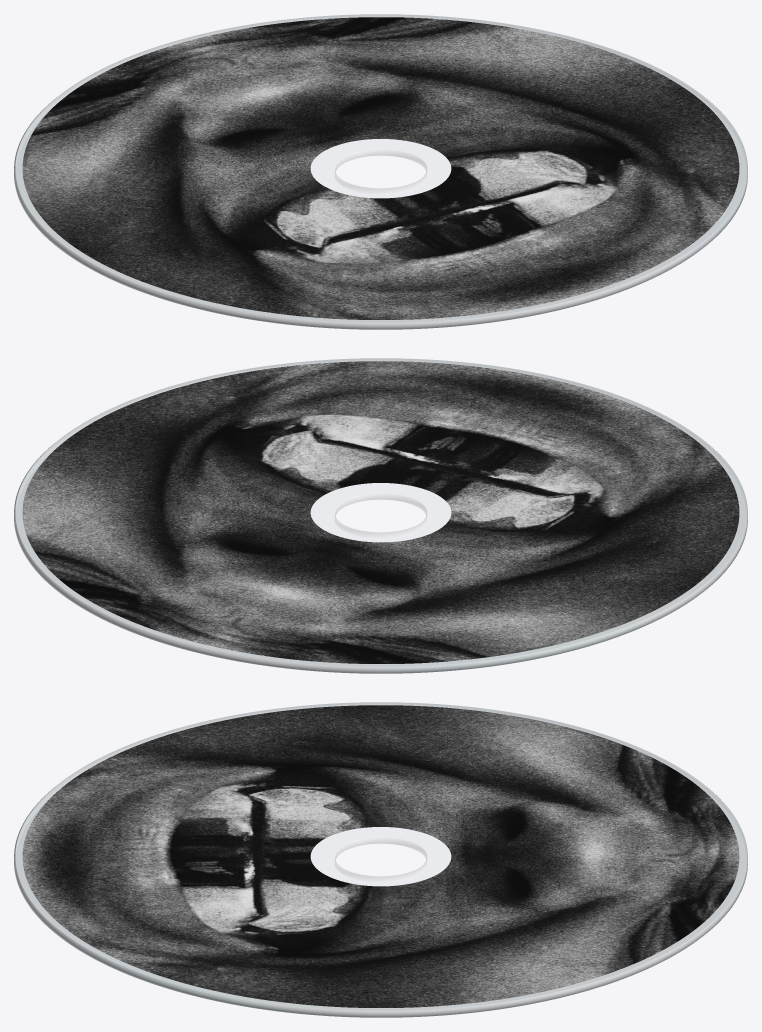
Rendered from 17_bully.glb.
3 views of the same model, one above another, from view 1: azimuth 30°, elevation 25°; view 2: azimuth 150°, elevation 25°; view 3: azimuth 270°, elevation 25° (orthographic).
Visible parts, largest first — view 1: Bully · complete CD; view 2: Bully · complete CD; view 3: Bully · complete CD.
Part boxes in pixels (<box>): Bully · complete CD: <box>14,14,747,329</box>; Bully · complete CD: <box>14,358,747,673</box>; Bully · complete CD: <box>14,702,747,1017</box>.
Bounding box in the file's own units: 0.12 × 0.00132 × 0.12.
Materials: 5 (2 with a texture image).
